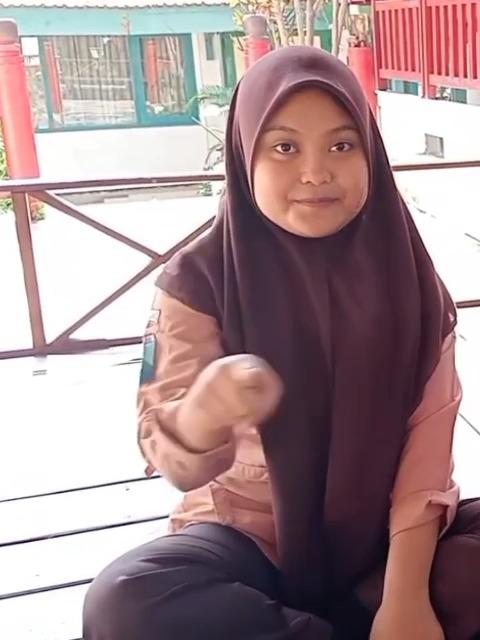Z: (184, 344, 294, 440)
